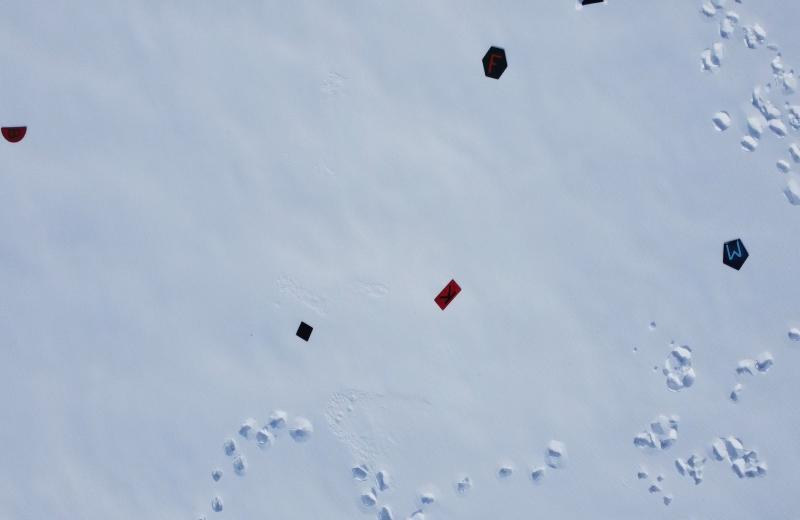Pentagon: (720, 238, 749, 272)
Rectangle: (434, 278, 461, 311)
Semi Circle: (482, 44, 509, 82), (0, 124, 29, 145)
Square: (294, 317, 314, 342)
